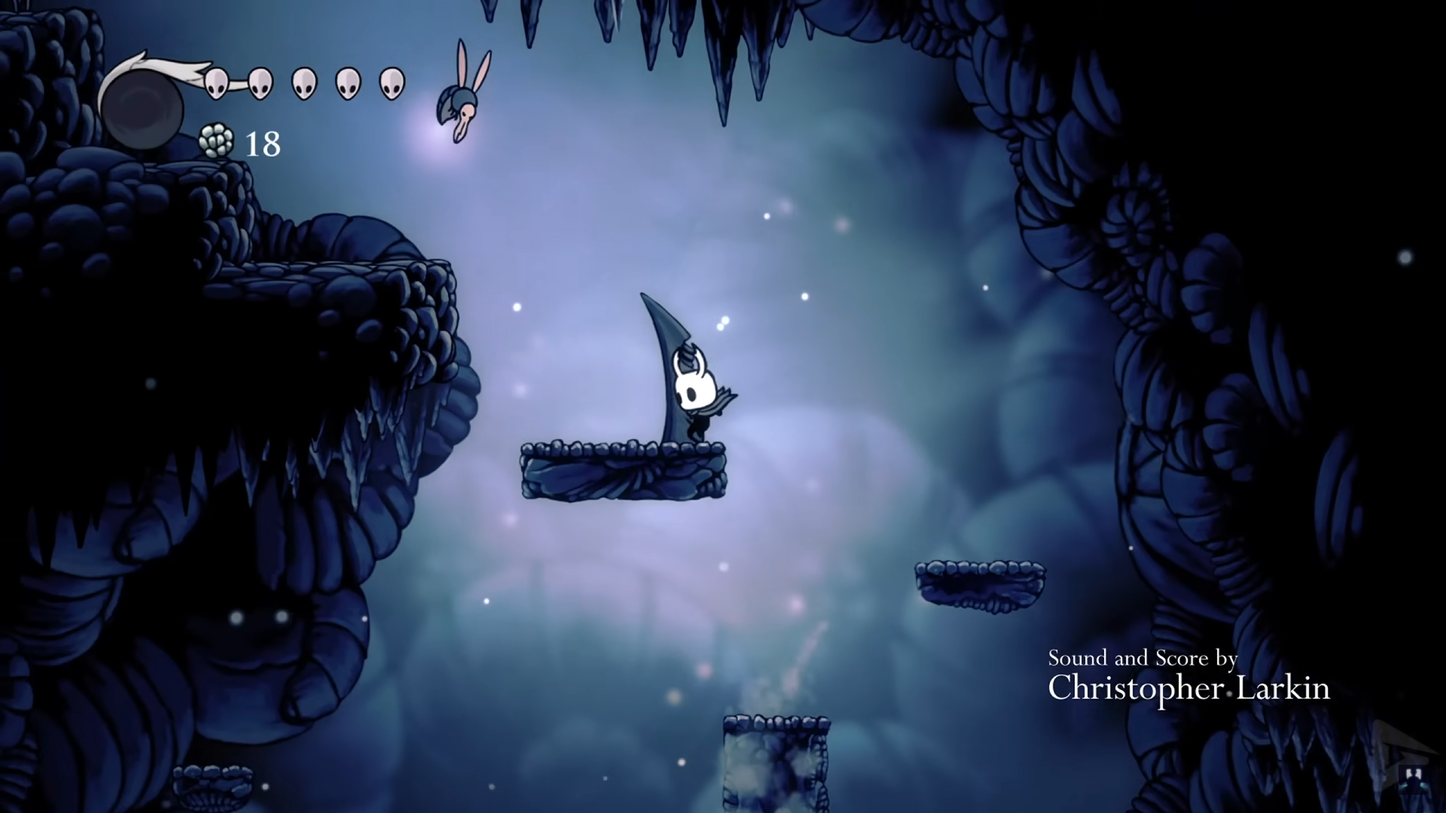HK: (660, 341, 730, 443)
